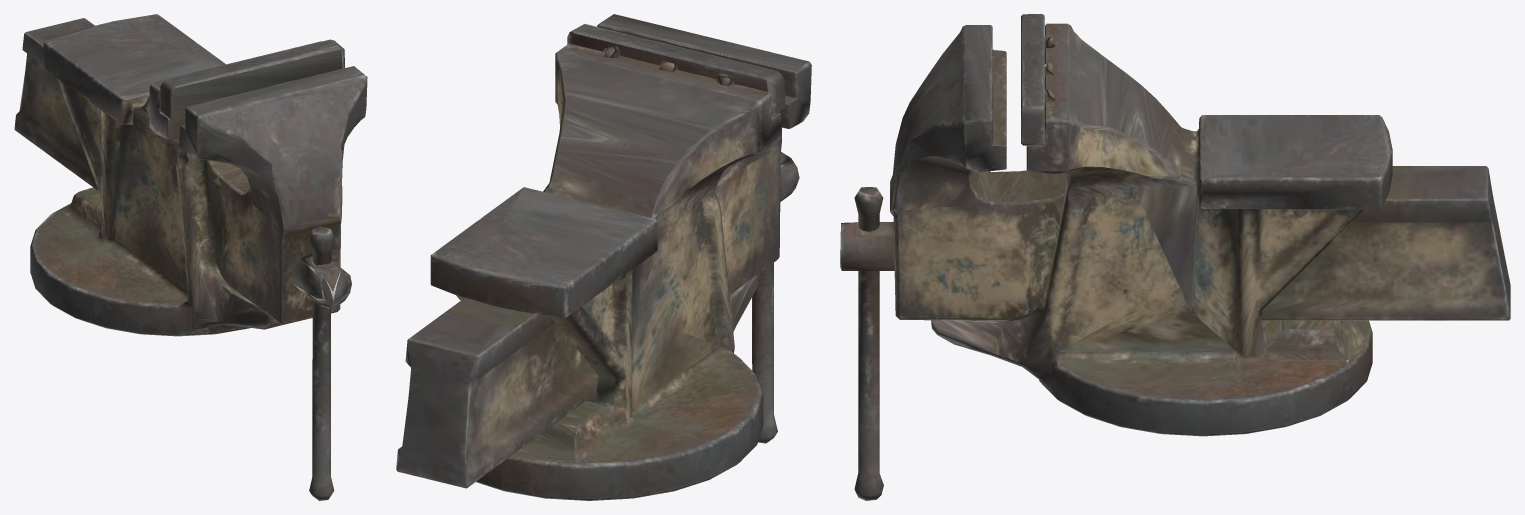
Rendered from bench-vice-01.glb.
3 views of the same model, side by side, from view 1: azimuth 30°, elevation 25°; view 2: azimuth 150°, elevation 25°; view 3: azimuth 270°, elevation 25° (orthographic). The views are drawn at different scales.
Visible parts, largest first — view 1: bench_vice_01; view 2: bench_vice_01; view 3: bench_vice_01.
Part boxes in pixels (box(x1,y1,x2,y2)): bench_vice_01: box(14, 14, 367, 500); bench_vice_01: box(396, 14, 811, 500); bench_vice_01: box(840, 14, 1510, 500).
Bounding box in the file's own units: 0.2005 × 0.2851 × 0.3957.
Materials: 1 (1 with a texture image).
